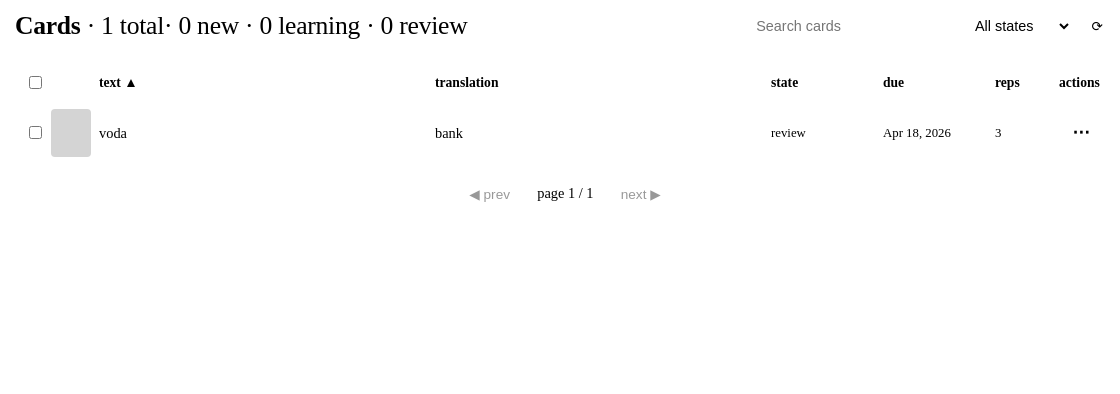
Test: cards/+page.svelte › shows error when toggleSuspend fails
Expected: the text "voda" is shown, [99, 124, 127, 140]
Click the button "⋯".
click(1081, 133)  # box [1059, 119, 1103, 147]
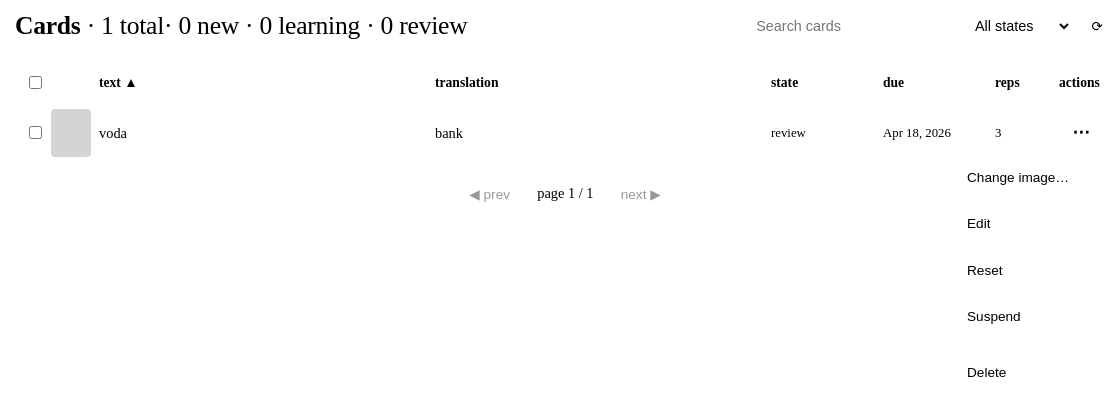
Click the menu item "Suspend".
click(1027, 317)  # box [955, 295, 1099, 339]
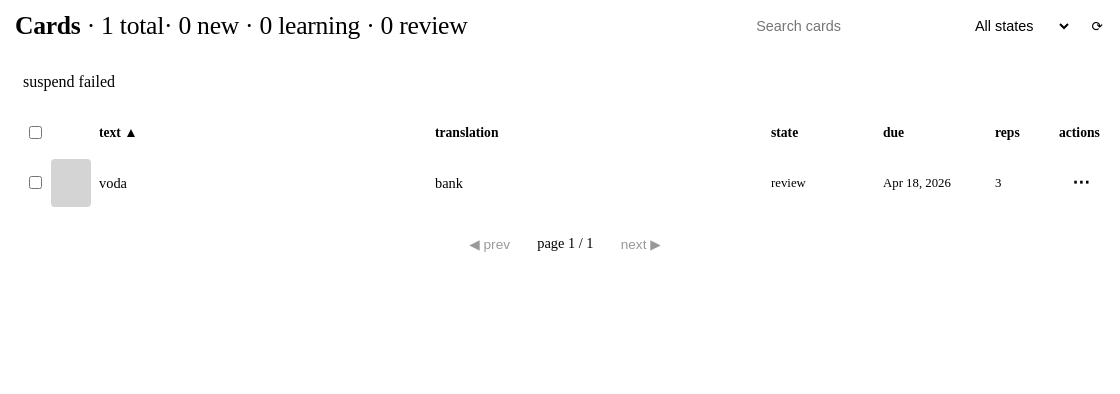
Expected: the text "suspend failed" is shown, [23, 73, 115, 90]
